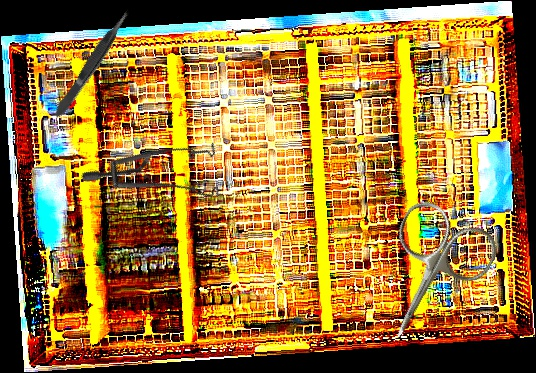Iris Scissors: (353, 194, 504, 361)
Speculum: (79, 108, 239, 252)
Tissue Forceps: (49, 6, 136, 121)
